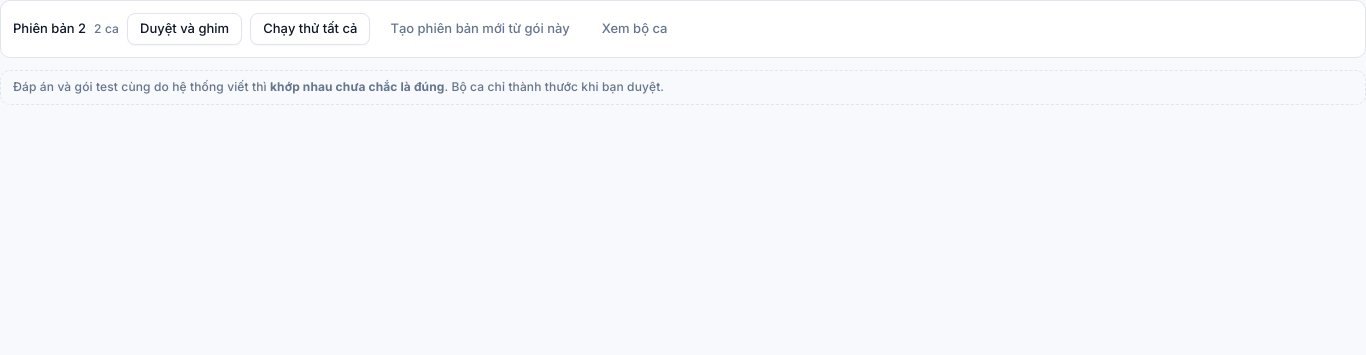
Test: TestBundleList (UI spec §3.7, T-UI-18) › shows the quoted constraint when there is one and "—" when there is not
Click the button "Xem bộ ca" at (635, 29), box [590,13,680,45]
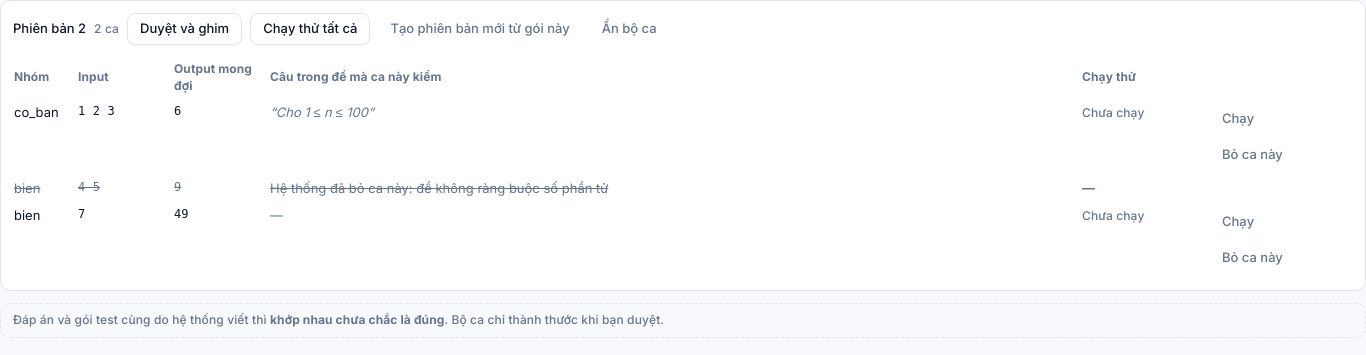
Check: the text "“Cho 1 ≤ n ≤ 100”" is shown, box [270,104,374,120]
Check: the text "—" is shown, box [270,207,283,223]
